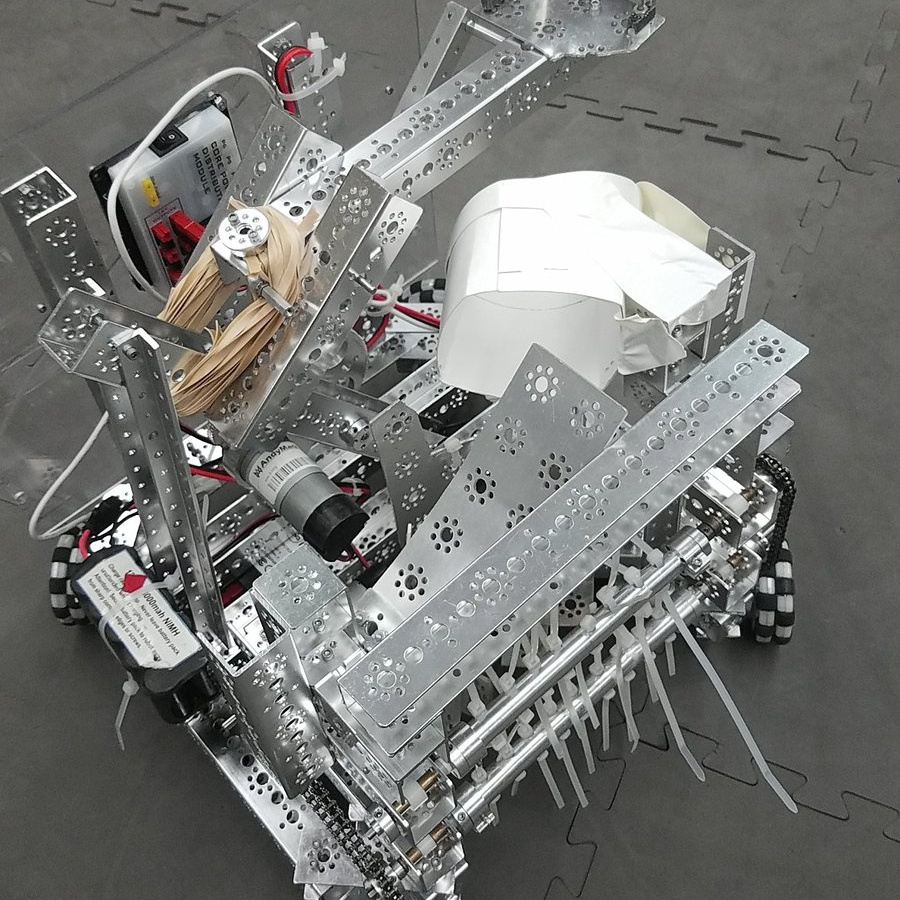robot: (0, 1, 818, 900)
